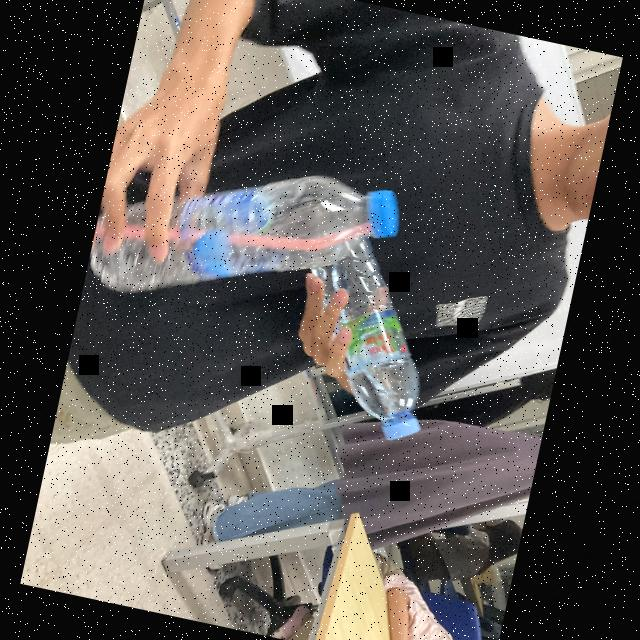plastic_bottle: (82, 131, 404, 347), (274, 223, 458, 447)
plastic_bottle_cap: (357, 182, 405, 239), (378, 409, 421, 445)
straw: (92, 164, 370, 292)
